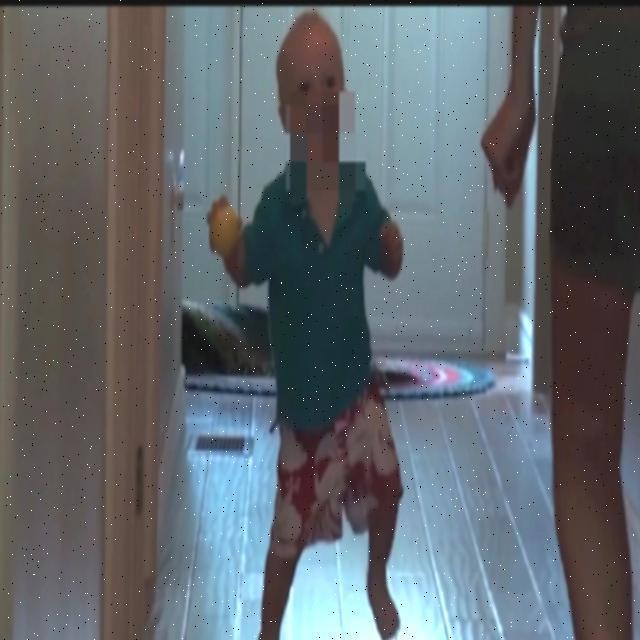child: (207, 21, 405, 640)
